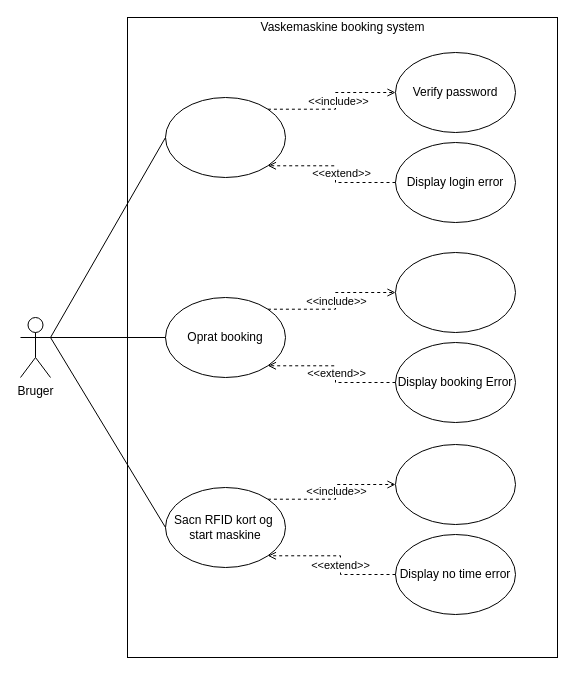
This 575x675 diagram has some shape labels left out. Each missing label, with the centre of its shape:
"Login" goes at point (225, 137).
"Verify booking is avaibale" goes at point (455, 292).
"Verify RFID kort id has booked time" goes at point (455, 484).
